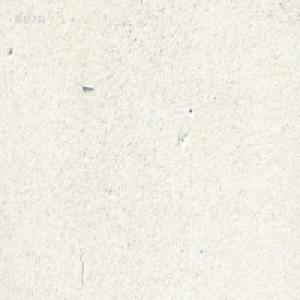Nail: (82, 83, 95, 91)
